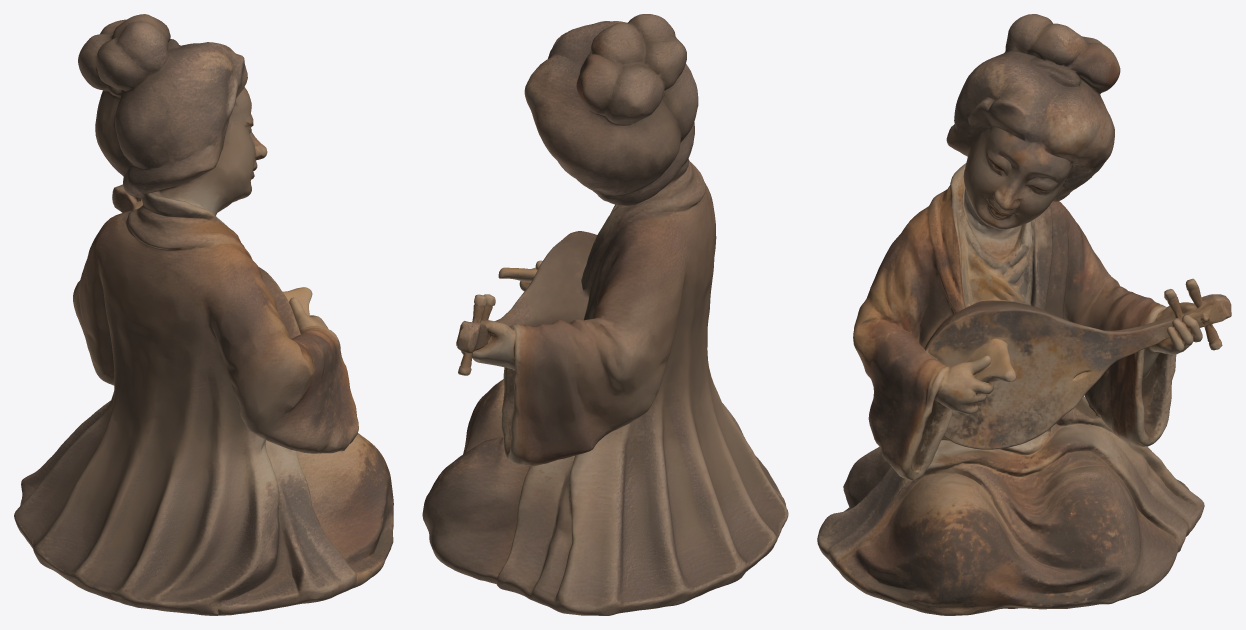
File: 879caaa9-28bc-4352-ba81-cf4eb3df0ac9.glb
3 views of the same model, side by side, from view 1: azimuth 30°, elevation 25°; view 2: azimuth 150°, elevation 25°; view 3: azimuth 270°, elevation 25° (orthographic). The views are drawn at different scales.
Parts seen in each view (by area): view 1: tripo_node_77e850f3-5da5-4b21-880a-c6b8b961baf8; view 2: tripo_node_77e850f3-5da5-4b21-880a-c6b8b961baf8; view 3: tripo_node_77e850f3-5da5-4b21-880a-c6b8b961baf8.
Part boxes in pixels (<box>): tripo_node_77e850f3-5da5-4b21-880a-c6b8b961baf8: <box>14,14,393,615</box>; tripo_node_77e850f3-5da5-4b21-880a-c6b8b961baf8: <box>422,14,788,615</box>; tripo_node_77e850f3-5da5-4b21-880a-c6b8b961baf8: <box>817,14,1231,615</box>.
Size of the model in its own units: 0.6126 by 1 by 0.7393.
Materials: 1 (1 with a texture image).
